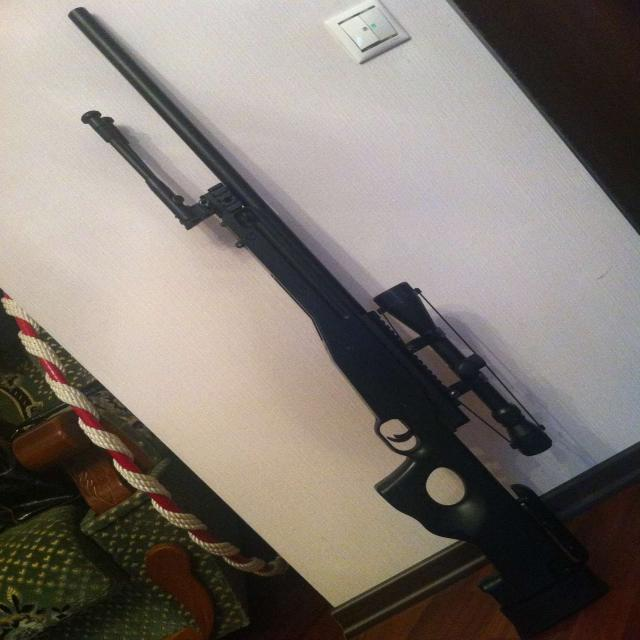firearm: (68, 6, 606, 636)
